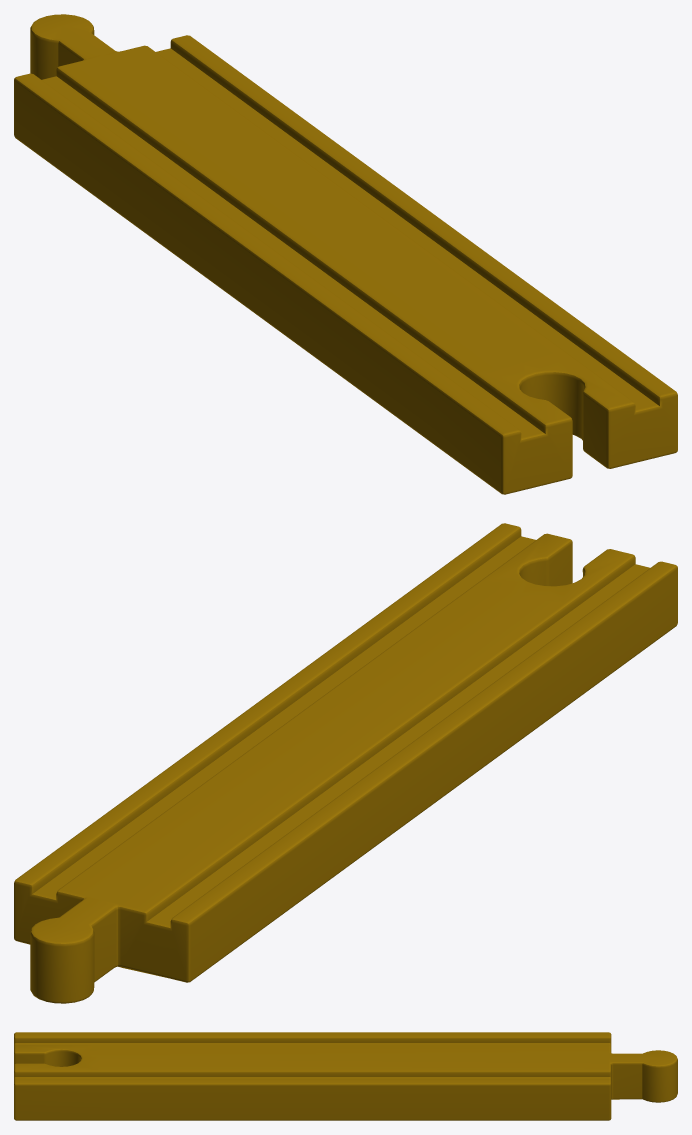
Rendered from Railway_straight.fbx.
3 views of the same model, one above another, from view 1: azimuth 30°, elevation 25°; view 2: azimuth 150°, elevation 25°; view 3: azimuth 270°, elevation 25° (orthographic). The views are drawn at different scales.
Visible parts, largest first — view 1: Railway_straight; view 2: Railway_straight; view 3: Railway_straight.
Part boxes in pixels (x1=…): Railway_straight: x1=14, y1=14, x2=677, y2=494; Railway_straight: x1=14, y1=523, x2=677, y2=1003; Railway_straight: x1=14, y1=1032, x2=677, y2=1120.
Bounding box in the file's own units: 74.88 × 25.07 × 400.
